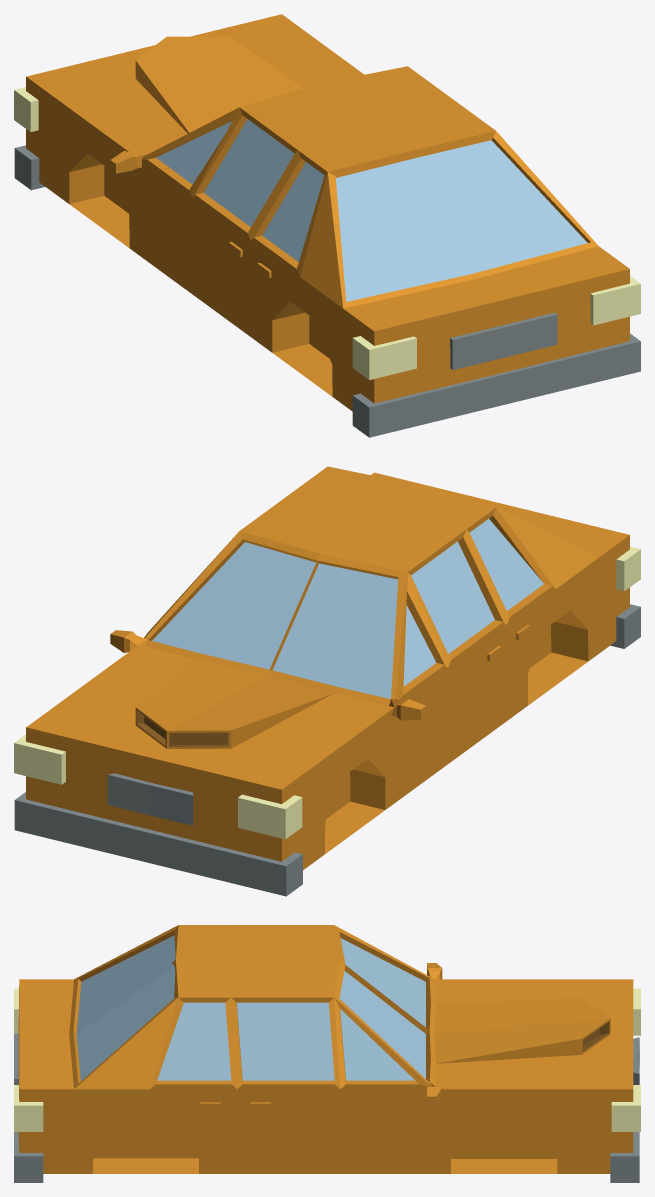
The model's file is chase.fbx.
The picture shows the model from 3 angles, top to bottom: view 1: azimuth 30°, elevation 25°; view 2: azimuth 150°, elevation 25°; view 3: azimuth 270°, elevation 25°; orthographic projection. The views are drawn at different scales.
Parts seen in each view (by area): view 1: Case; view 2: Case; view 3: Case.
Part boxes in pixels (x1,y1,x2,y2): Case: (14, 14, 640, 437); Case: (14, 466, 640, 896); Case: (14, 925, 640, 1182).
Bounding box in the file's own units: 201 × 116 × 398.
1 material, 1 textured.
